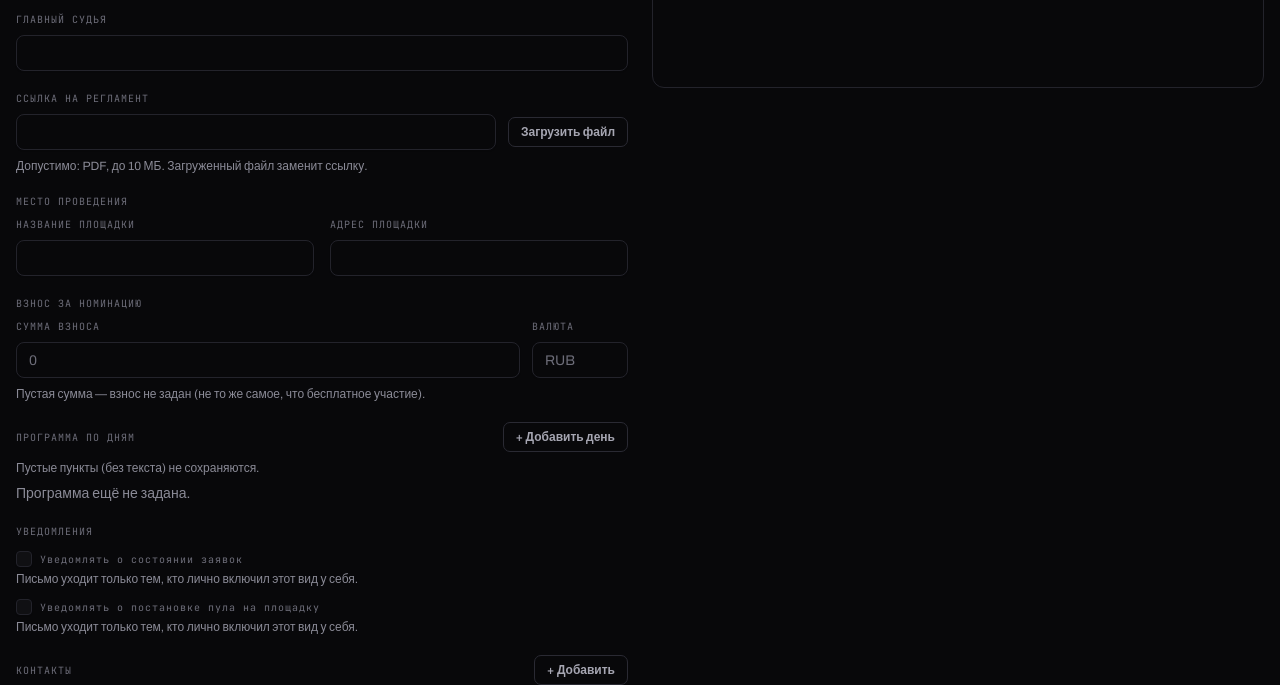
Test: TournamentScreen (spec 0029) › a negative entry fee blocks saving with an inline error and no request (spec 0037, FR-21)
(page scrolled)
Type "-100" into the number field labelled "Сумма взноса".
click(268, 360); type("-100")  # box [16, 342, 520, 378]
(page scrolled)
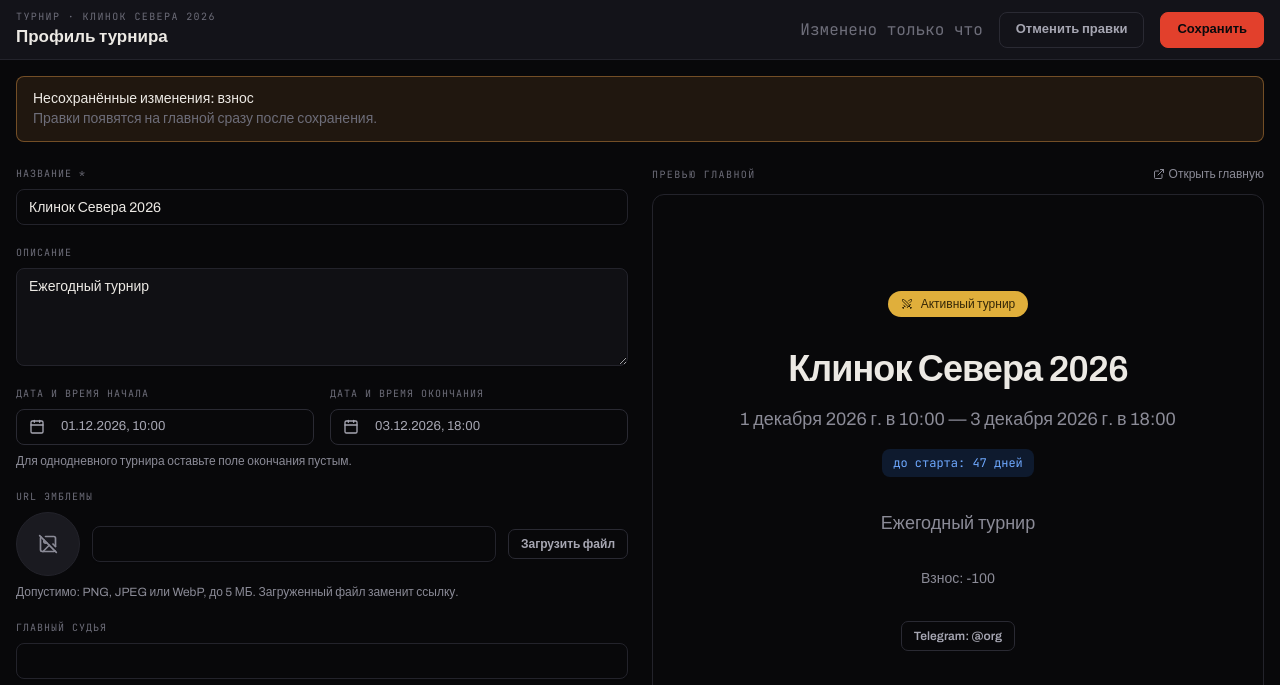
Click the button "Сохранить".
click(1212, 30)  # box [1160, 12, 1264, 48]
(page scrolled)
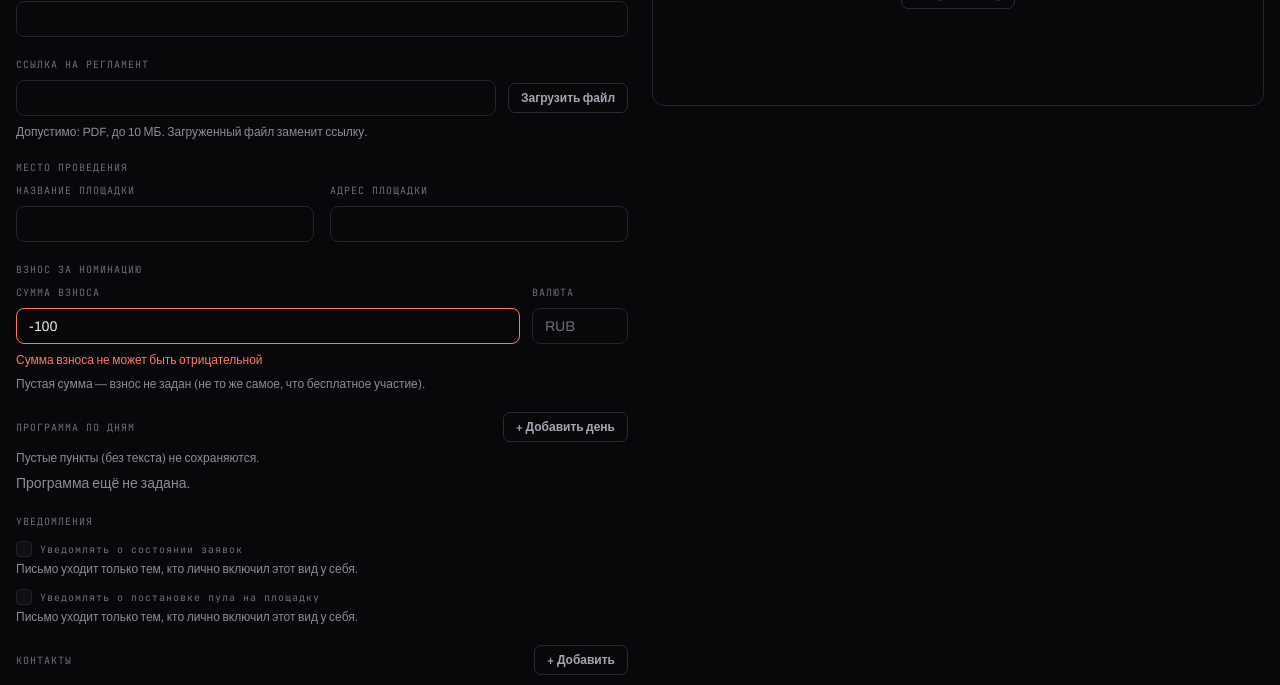
expect the text "Сумма взноса не может быть отрицательной" is shown: met, box [16, 353, 263, 367]
